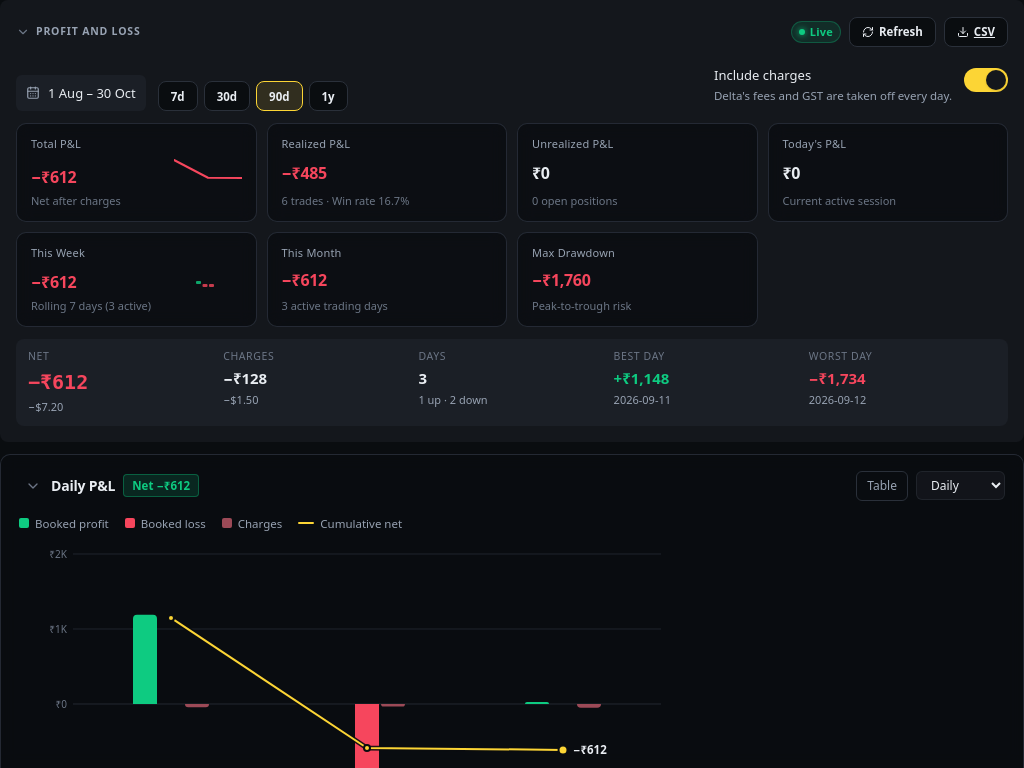
Test case: the calendar › [critical] turning charges off changes the squares and the totals together
Expected: the element named "totals" is shown, [16,339,1008,426]
What coordinates should you click on to do the following:
click the switch named "Include charges"
I would click on:
 (986, 80)
Its box is [964,68,1008,92].
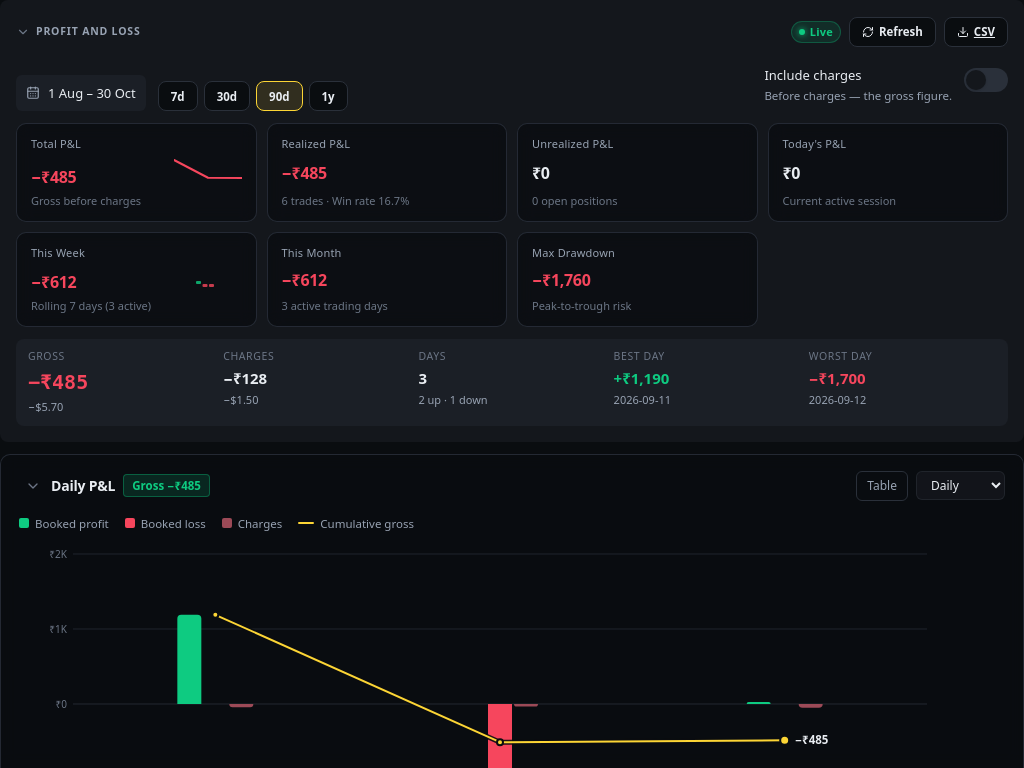
Result: the text "−₹485" next to "−₹128" is shown at [28,370,88,394]
